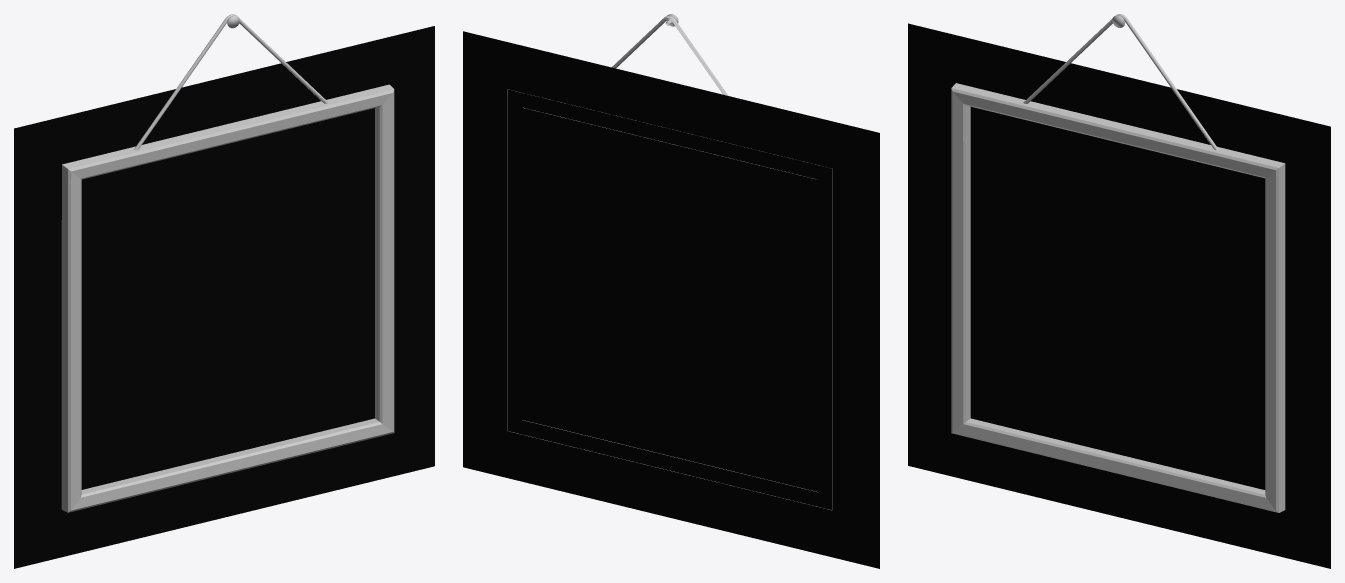
File: PaintingFrame.fbx
3 renders of one model, left to right at view 1: azimuth 30°, elevation 25°; view 2: azimuth 150°, elevation 25°; view 3: azimuth 330°, elevation 25°, orthographic.
Parts seen in each view (by area): view 1: Shadow, MERGED; view 2: Shadow, MERGED; view 3: Shadow, MERGED.
Boxes of the visible parts, x1=… form: Shadow: x1=14, y1=26, x2=434, y2=568; MERGED: x1=61, y1=14, x2=394, y2=512; Shadow: x1=463, y1=31, x2=879, y2=568; MERGED: x1=507, y1=14, x2=832, y2=510; Shadow: x1=908, y1=23, x2=1330, y2=568; MERGED: x1=951, y1=14, x2=1285, y2=512.
Bounding box in the file's own units: 19703 × 22555 × 536.
